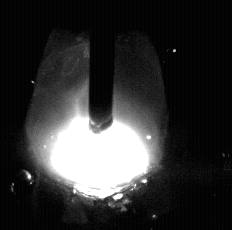arame: (89, 0, 115, 133)
poca: (25, 0, 167, 230)
